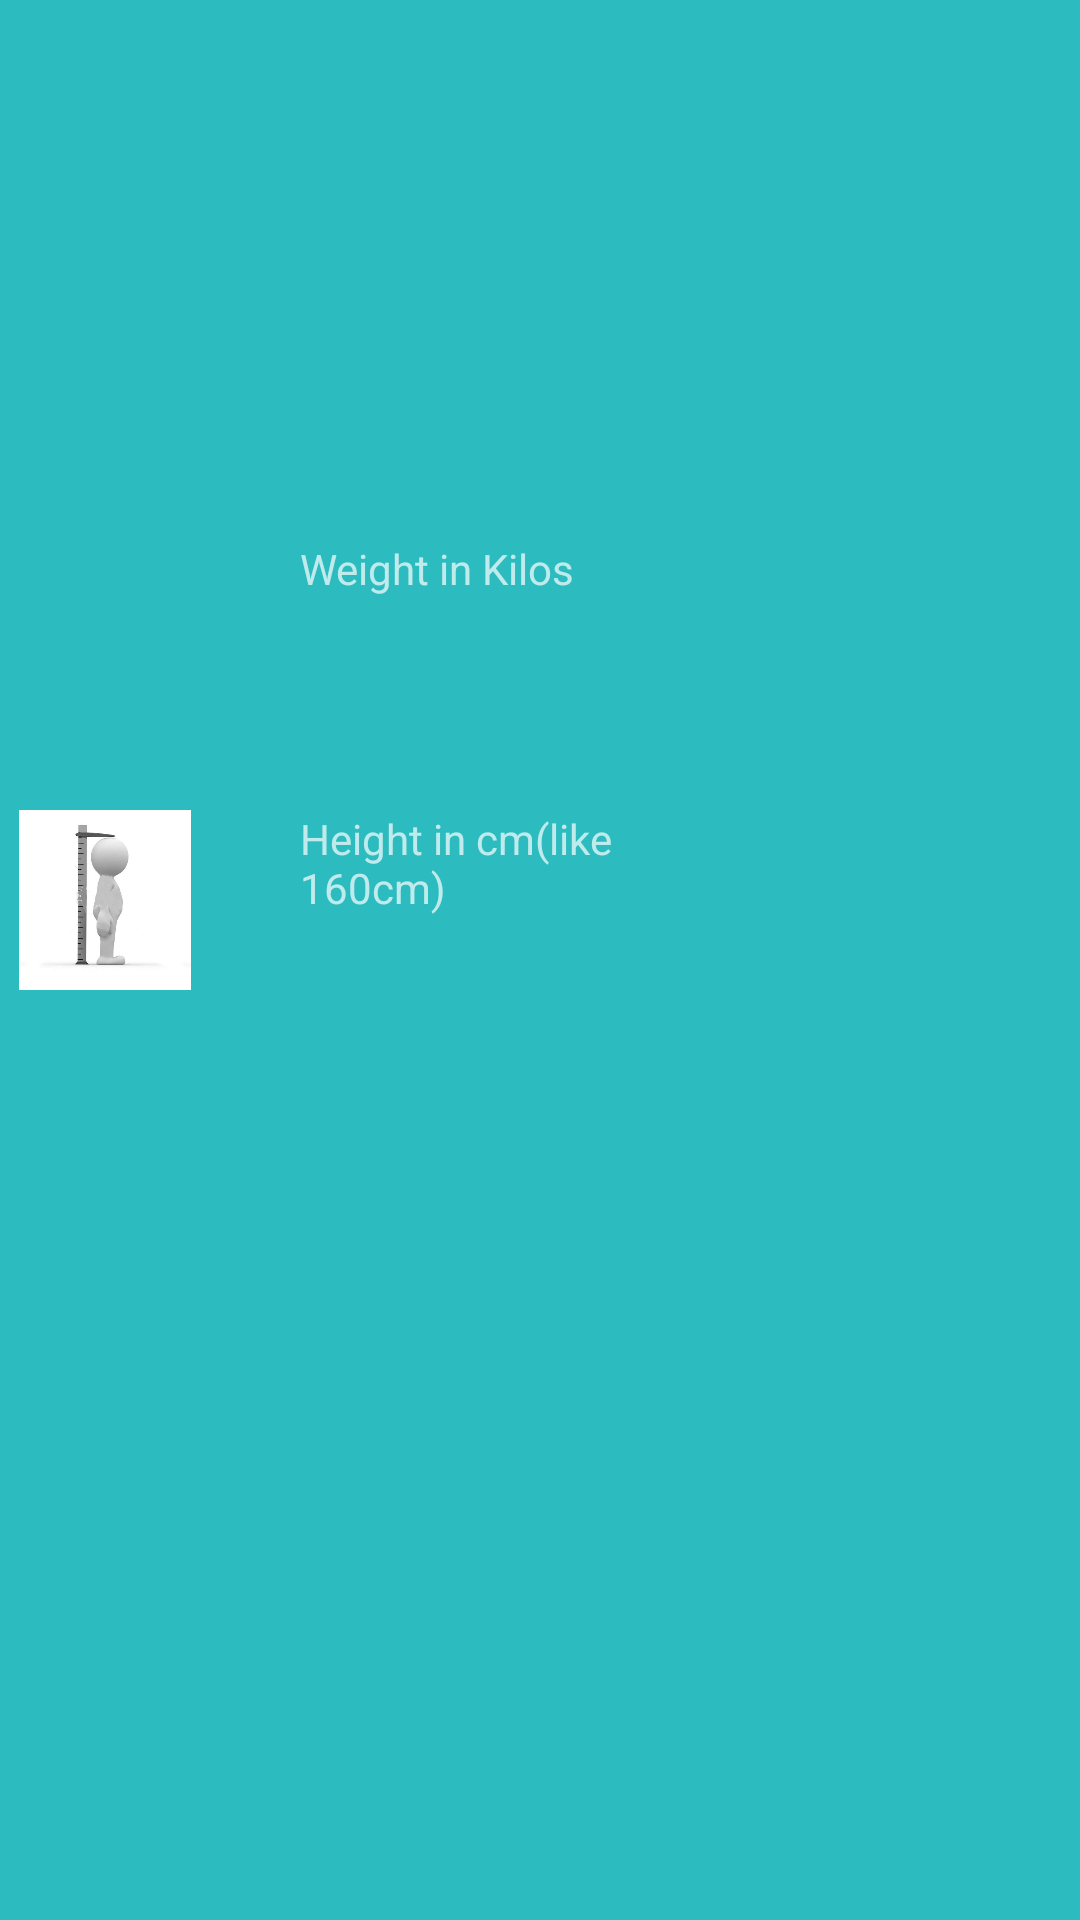

Named icons in this screenshot (1080w x 1920h) and their bounding boxes, (x1, y1, x2, y2):
mesurment: (19, 810, 191, 990)
